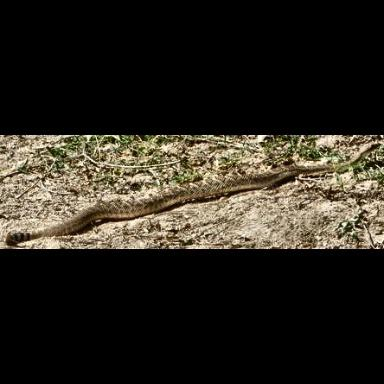snake: (0, 136, 384, 243)
